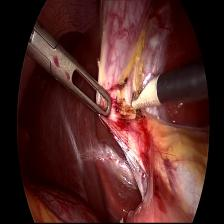Grasper: (26, 17, 120, 132)
Hook: (130, 73, 164, 113)
